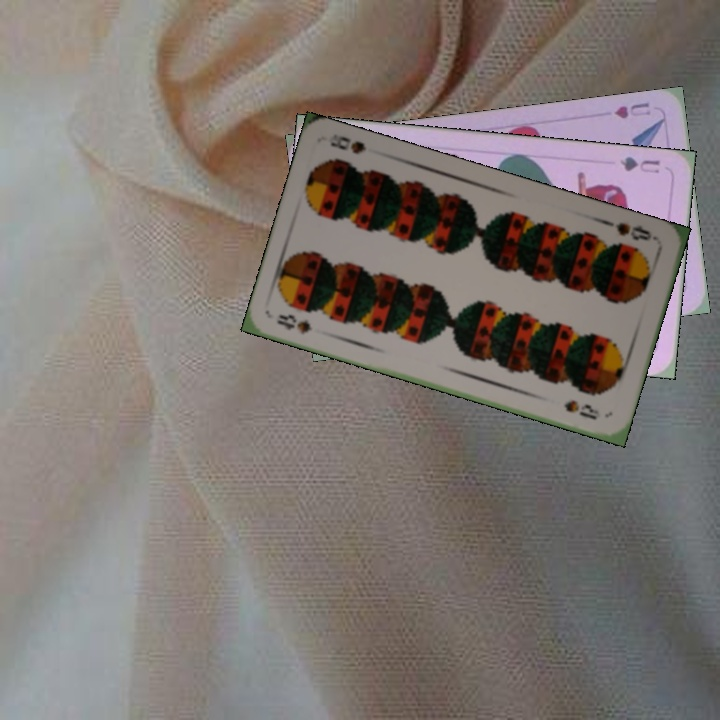GU: (615, 152, 663, 176)
HU: (610, 98, 653, 122)
S8: (612, 218, 660, 243), (272, 310, 315, 337)
